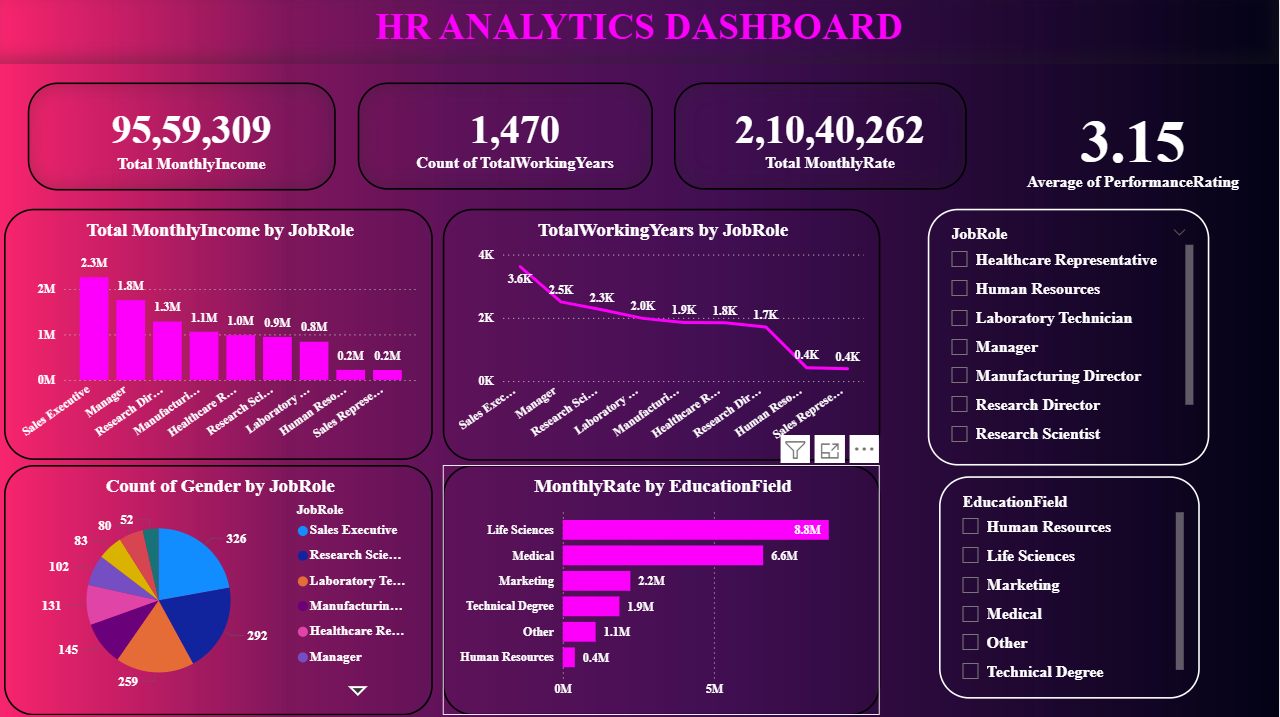

The page's visual inventory and layout, read from the dashboard file:
{"tool":"powerbi","page":{"name":"Page 1","canvas":[1280,720],"ordinal":0},"visuals":[{"type":"textbox","box":[0,0,1280.2,64],"z":0},{"type":"card","fields":{"Values":["Sum(WA_Fn-UseC_-HR-Employee-Attrition.MonthlyIncome)"]},"box":[29.1,82.6,308.1,108.1],"z":1000},{"type":"card","fields":{"Values":["CountNonNull(WA_Fn-UseC_-HR-Employee-Attrition.TotalWorkingYears)"]},"box":[359.3,82.6,295.3,107],"z":2000},{"type":"card","fields":{"Values":["Sum(WA_Fn-UseC_-HR-Employee-Attrition.MonthlyRate)"]},"box":[675.6,82.6,293,107],"z":3000},{"type":"card","fields":{"Values":["Avg(WA_Fn-UseC_-HR-Employee-Attrition.PerformanceRating)"]},"box":[986,90.7,275.6,107],"z":4000},{"type":"columnChart","title":"Total MonthlyIncome by JobRole","fields":{"Category":["WA_Fn-UseC_-HR-Employee-Attrition.JobRole"],"Y":["Sum(WA_Fn-UseC_-HR-Employee-Attrition.MonthlyIncome)"]},"box":[4.7,208.1,429.1,251.2],"z":6000},{"type":"pieChart","fields":{"Category":["WA_Fn-UseC_-HR-Employee-Attrition.JobRole"],"Y":["CountNonNull(WA_Fn-UseC_-HR-Employee-Attrition.Gender)"]},"box":[5,465,429.1,250],"z":7000},{"type":"lineChart","title":"TotalWorkingYears by JobRole","fields":{"Y":["Sum(WA_Fn-UseC_-HR-Employee-Attrition.TotalWorkingYears)"],"Category":["WA_Fn-UseC_-HR-Employee-Attrition.JobRole"]},"box":[444.2,208.1,437.2,252.3],"z":8000},{"type":"slicer","fields":{"Values":["WA_Fn-UseC_-HR-Employee-Attrition.JobRole"]},"box":[929.1,208.1,281.4,257],"z":9000},{"type":"barChart","title":"MonthlyRate by EducationField","fields":{"Category":["WA_Fn-UseC_-HR-Employee-Attrition.EducationField"],"Y":["Sum(WA_Fn-UseC_-HR-Employee-Attrition.MonthlyRate)"]},"box":[444.2,465.1,437.2,250],"z":10000},{"type":"slicer","title":"Total PerformanceRating","fields":{"Values":["WA_Fn-UseC_-HR-Employee-Attrition.EducationField"]},"box":[939.5,476.7,260.5,222.1],"z":11000}]}

Visuals, with their boxes in screenshot pixels (x1, y1, x2, y2), scaled from the page's 1280x720 canvas onto the 1280x717 screenshot:
textbox: 0,0,1279,64
card - Sum(WA_Fn-UseC_-HR-Employee-Attrition.MonthlyIncome): 29,82,337,190
card - CountNonNull(WA_Fn-UseC_-HR-Employee-Attrition.TotalWorkingYears): 359,82,655,189
card - Sum(WA_Fn-UseC_-HR-Employee-Attrition.MonthlyRate): 676,82,969,189
card - Avg(WA_Fn-UseC_-HR-Employee-Attrition.PerformanceRating): 986,90,1262,197
"Total MonthlyIncome by JobRole" columnChart: 5,207,434,457
pieChart - WA_Fn-UseC_-HR-Employee-Attrition.JobRole x CountNonNull(WA_Fn-UseC_-HR-Employee-Attrition.Gender): 5,463,434,712
"TotalWorkingYears by JobRole" lineChart: 444,207,881,458
slicer - WA_Fn-UseC_-HR-Employee-Attrition.JobRole: 929,207,1210,463
"MonthlyRate by EducationField" barChart: 444,463,881,712
"Total PerformanceRating" slicer: 940,475,1200,696
